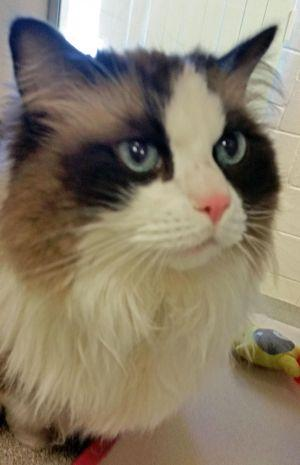ragdoll: (1, 1, 298, 290)
